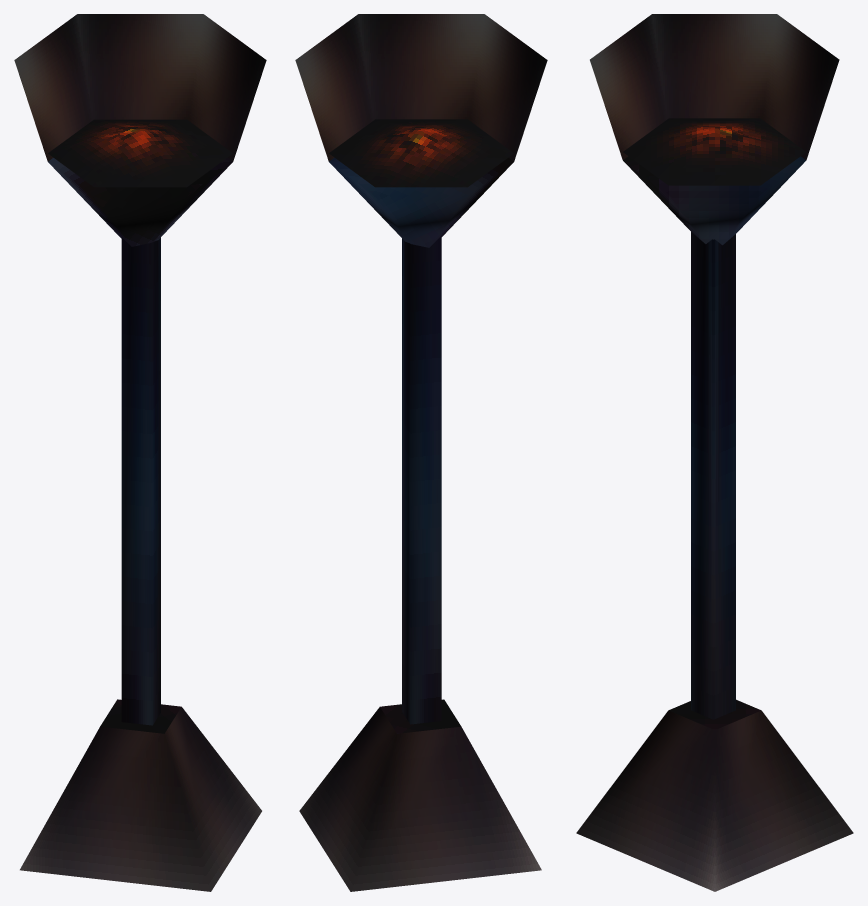
The model's file is FireLight01.glb.
The picture shows the model from 3 angles, left to right: view 1: azimuth 30°, elevation 25°; view 2: azimuth 150°, elevation 25°; view 3: azimuth 270°, elevation 25°; orthographic projection.
Parts seen in each view (by area): view 1: FireLight01; view 2: FireLight01; view 3: FireLight01.
Part boxes in pixels (x1,y1,x2,y2): FireLight01: [14, 14, 266, 891]; FireLight01: [295, 14, 547, 891]; FireLight01: [576, 14, 853, 891].
Size of the model in its own units: 0.5718 by 1.76 by 0.5718.
3 materials, 3 textured.
